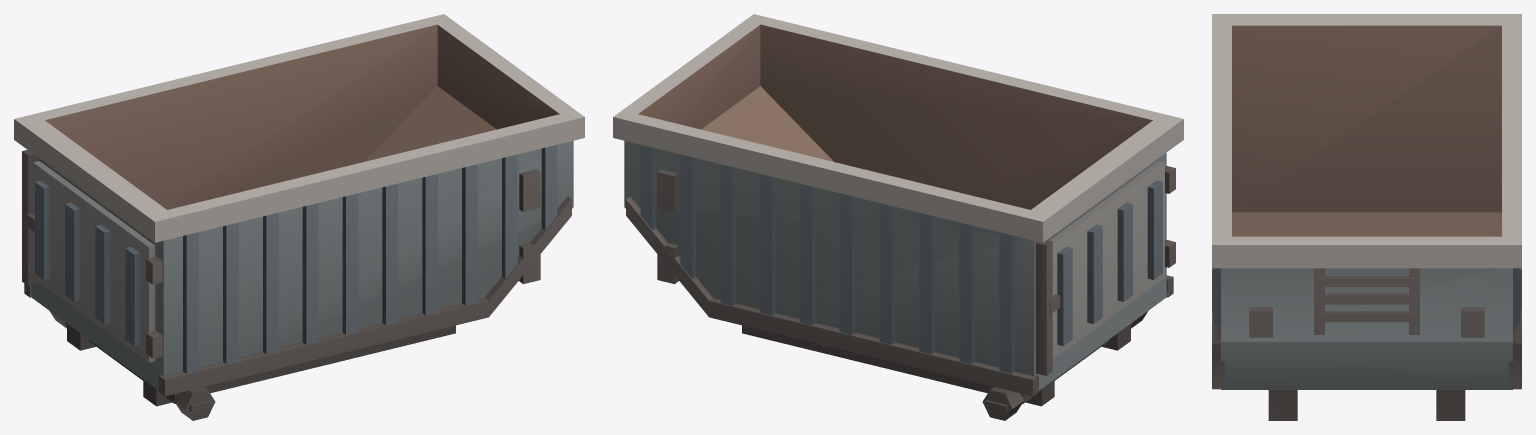
Rendered from dumpster.glb.
3 renders of one model, left to right at view 1: azimuth 30°, elevation 25°; view 2: azimuth 150°, elevation 25°; view 3: azimuth 270°, elevation 25°, orthographic. The views are drawn at different scales.
Parts seen in each view (by area): view 1: dumpster; view 2: dumpster; view 3: dumpster.
Part boxes in pixels (x1,y1,x2,y2): dumpster: [14, 14, 584, 420]; dumpster: [613, 14, 1183, 420]; dumpster: [1212, 14, 1521, 420].
Bounding box in the file's own units: 3 × 1.4 × 1.7.
